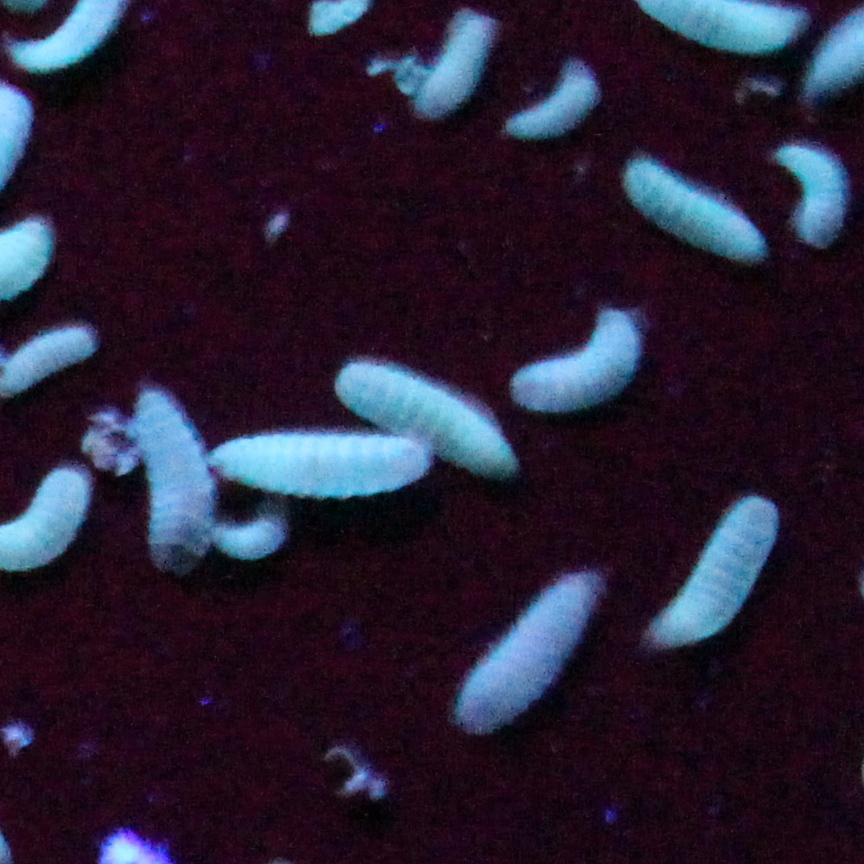larve: (452, 573, 602, 726), (331, 359, 513, 480), (649, 491, 774, 647), (626, 156, 762, 270), (128, 397, 210, 575), (210, 435, 426, 496), (520, 312, 638, 408), (776, 140, 848, 254), (417, 14, 491, 108), (509, 66, 594, 136)
